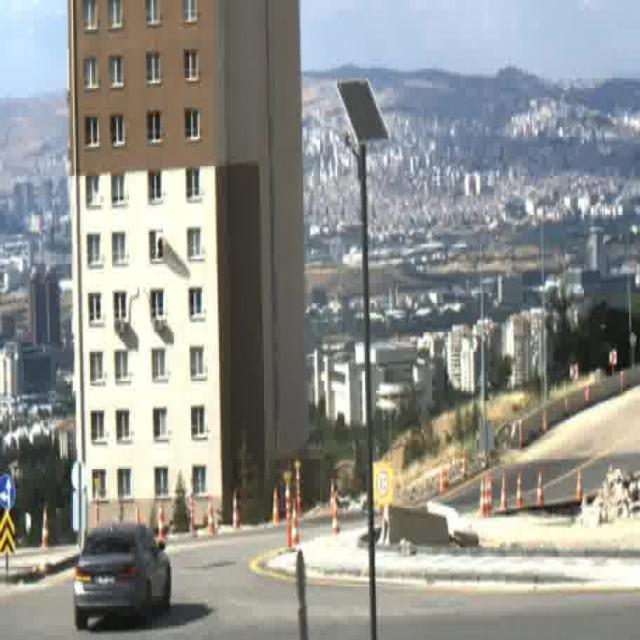Car: (73, 524, 172, 628)
